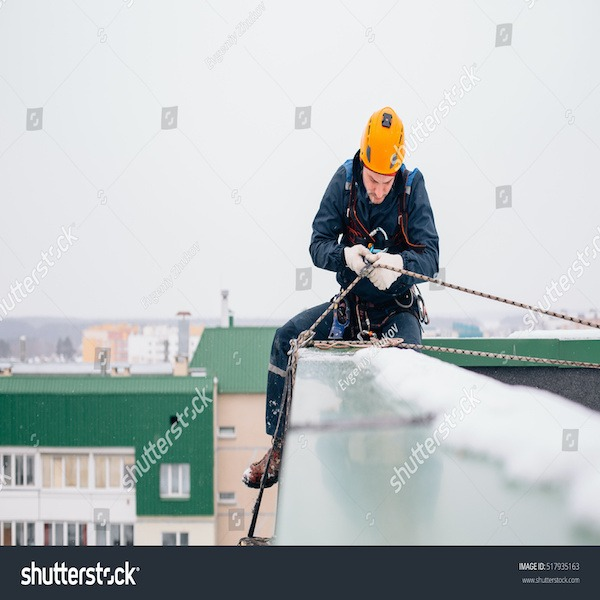helmet: (359, 108, 411, 180)
